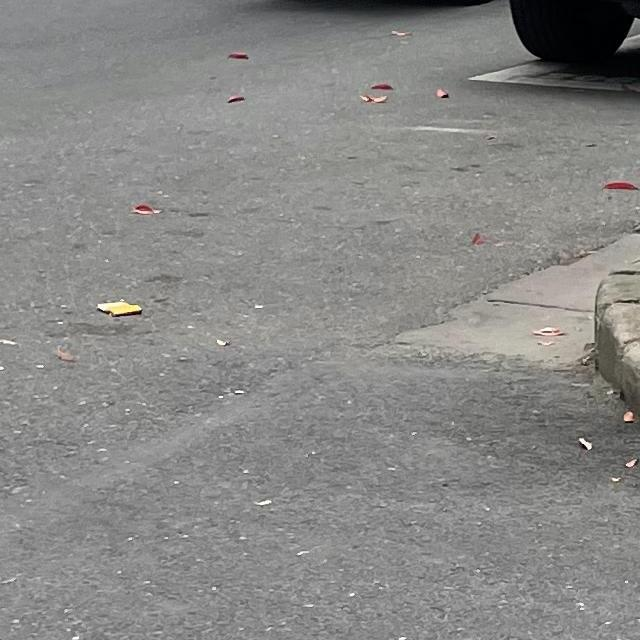curb: (594, 261, 639, 418)
